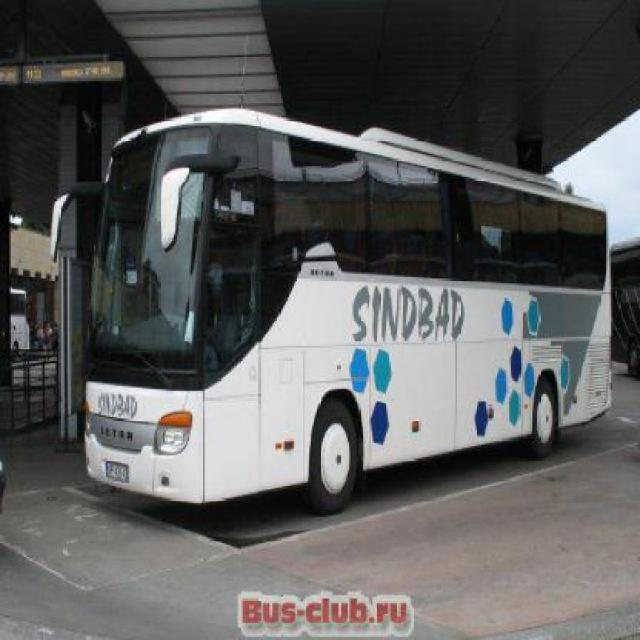bus: (49, 108, 615, 512)
